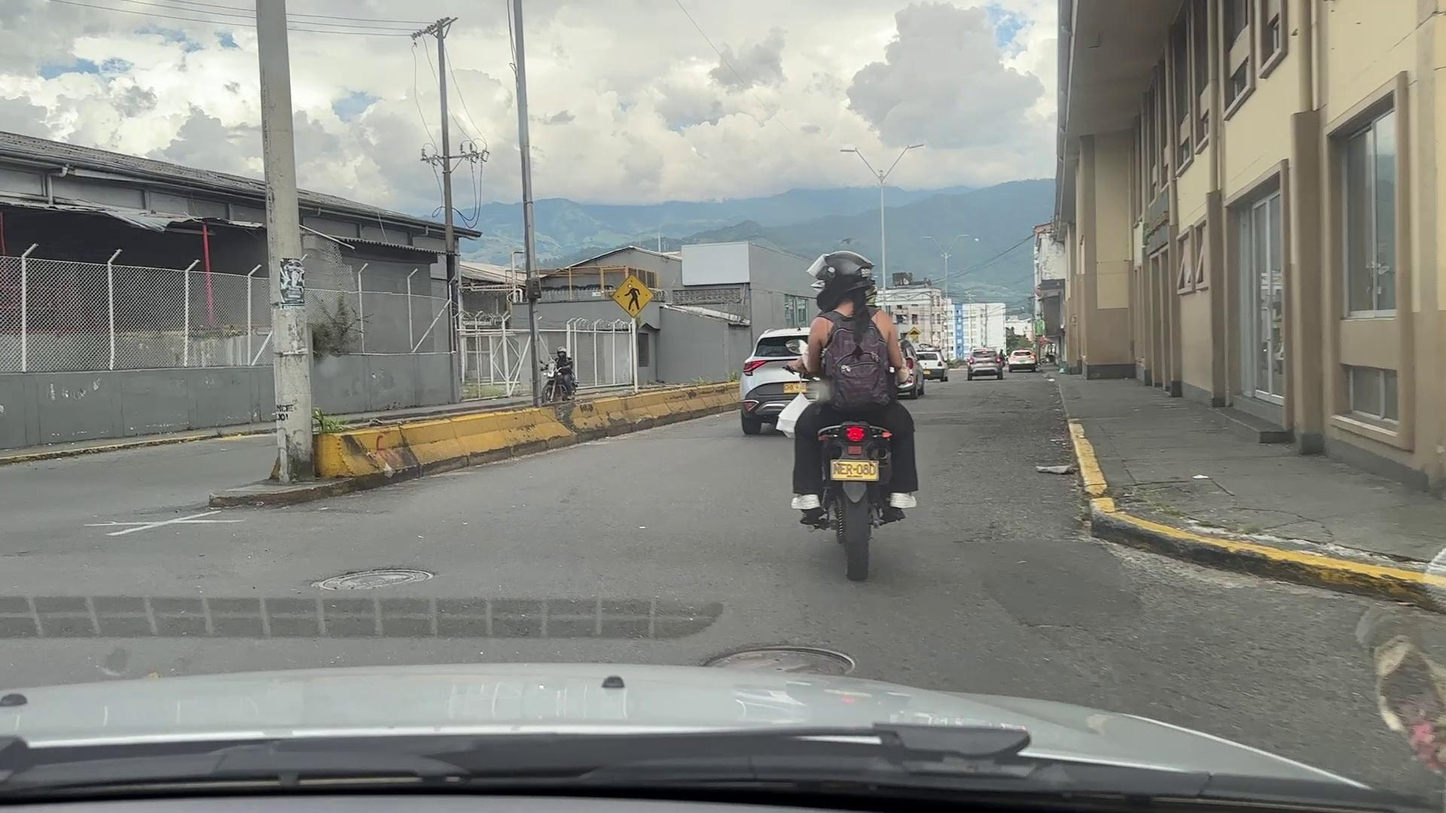registro: (701, 645, 856, 675), (313, 568, 435, 590)
